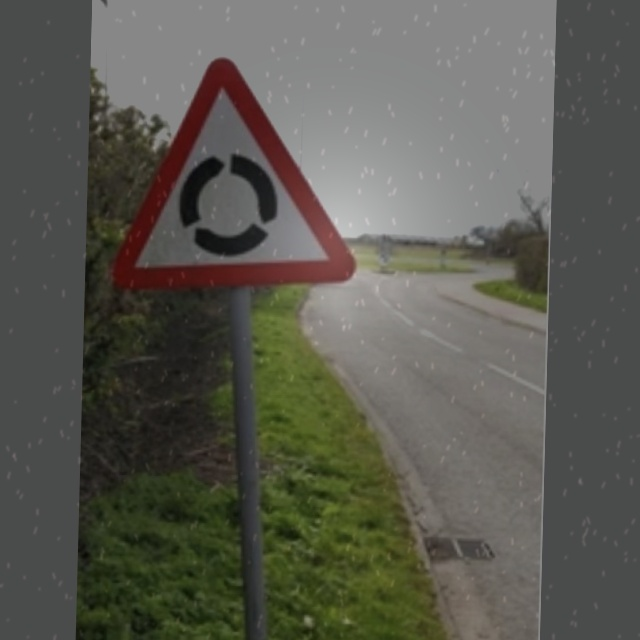Round_About: (125, 53, 356, 284)
